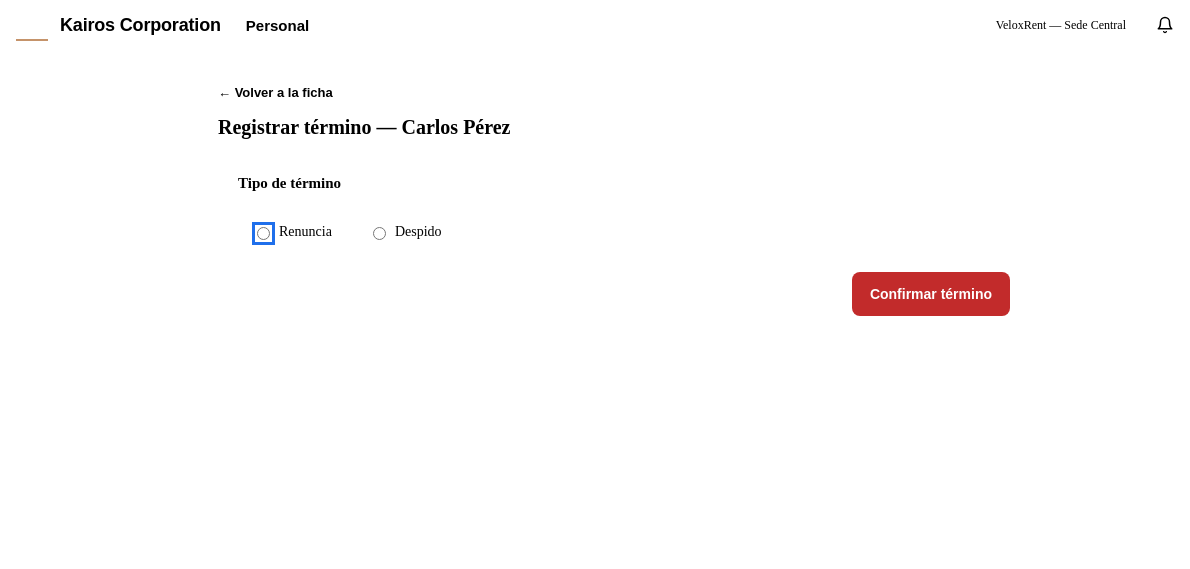
it: TerminationScreen (ADP-09) › una renuncia exige la quincena pagada (FINAL_SETTLEMENT_REQUIRED)
Click the radio button labelled "Renuncia": (264, 234) [257,227,270,240]
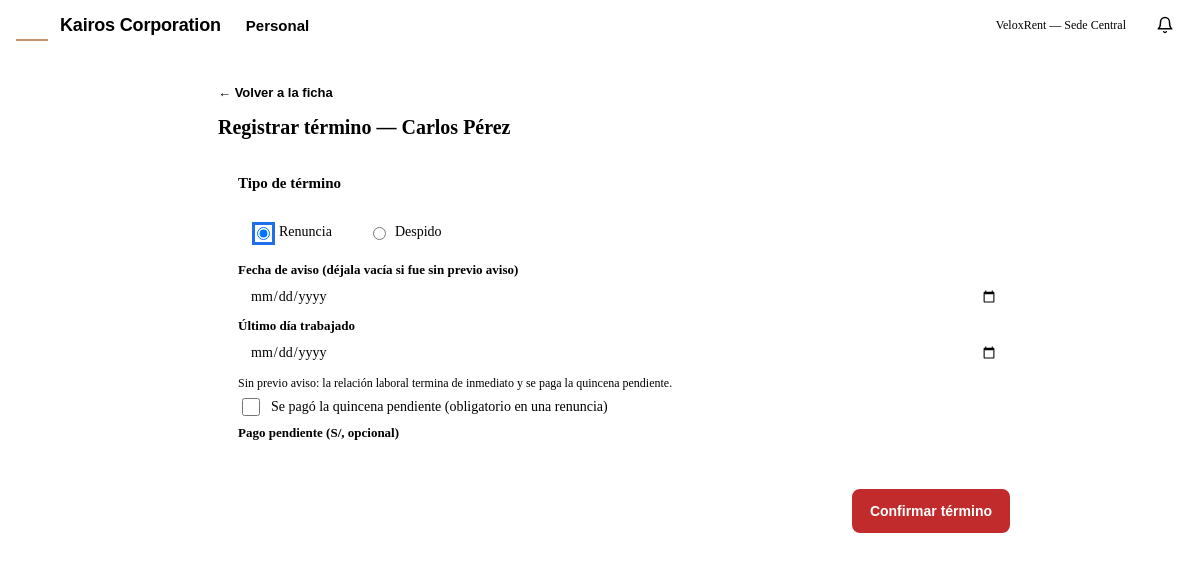
In the date field labelled "Último día trabajado": (624, 353) [238,334,1010,372], type "2026-10-09"
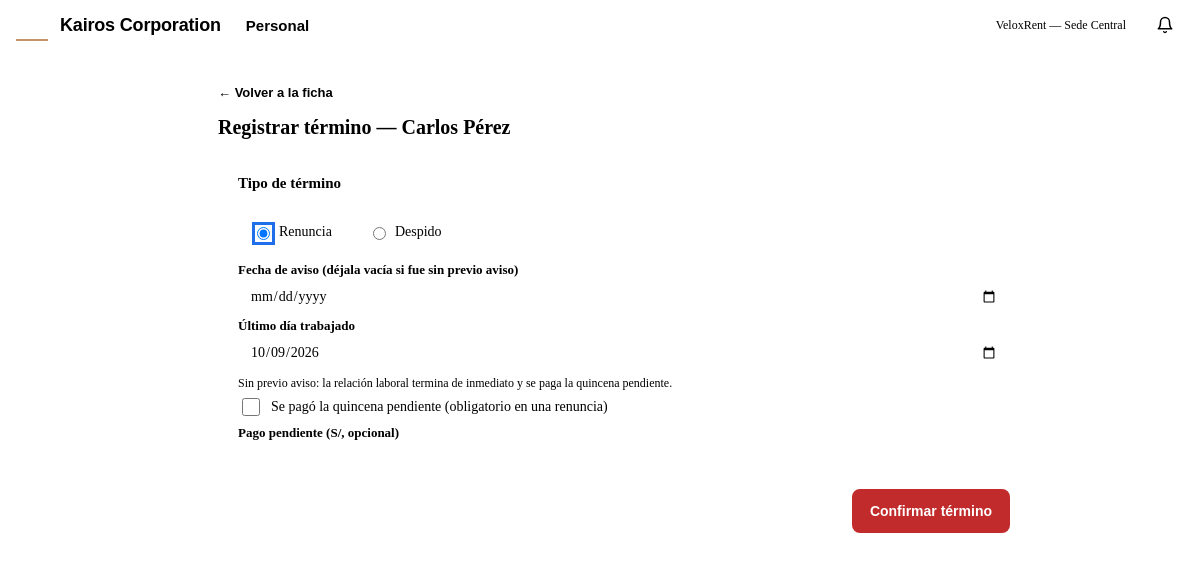
Click the button "Confirmar término": (931, 511) [852,489,1010,533]
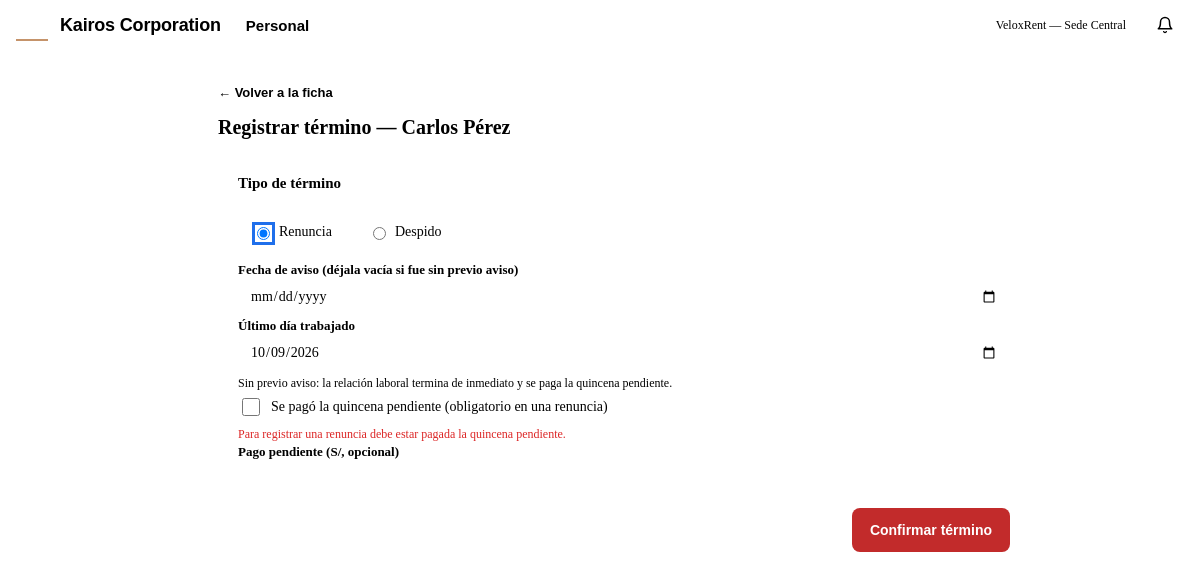
Expected: the text "Para registrar una renuncia debe estar pagada la quincena pendiente." is shown, [238,427,566,441]
